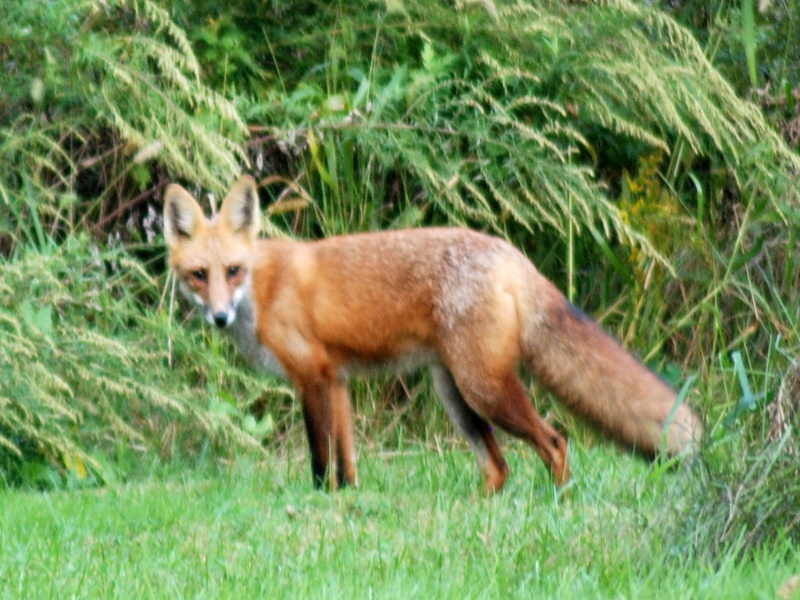fox: (157, 171, 714, 514)
